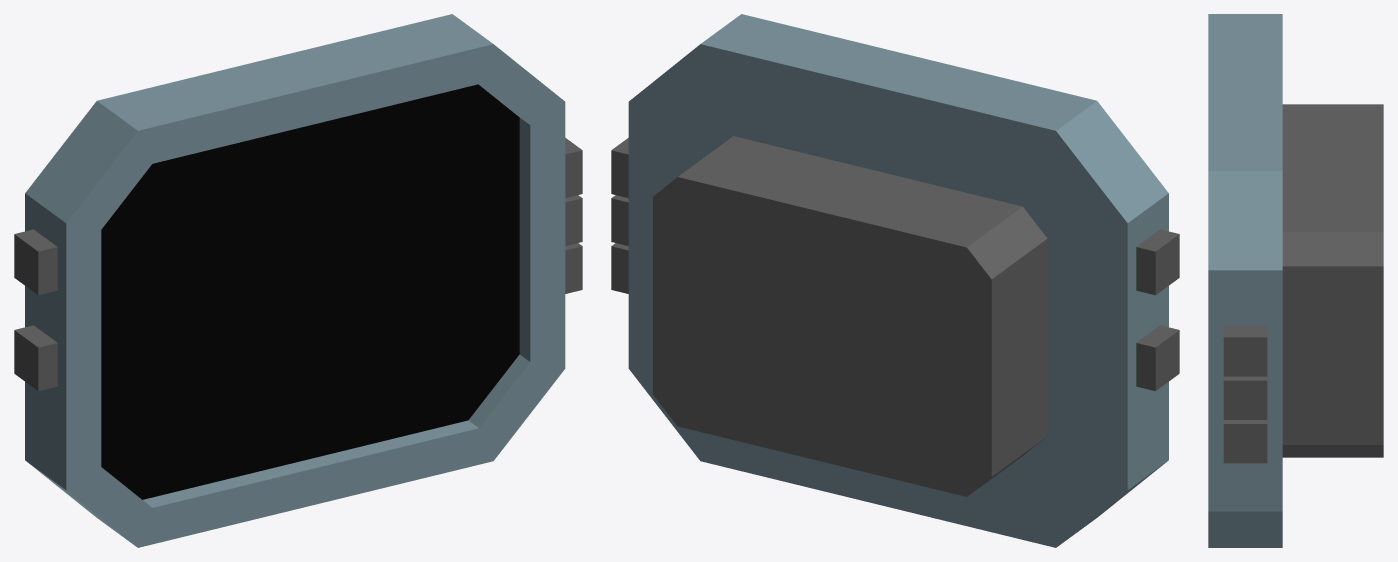
File: upgrade_screen.fbx
3 renders of one model, left to right at view 1: azimuth 30°, elevation 25°; view 2: azimuth 150°, elevation 25°; view 3: azimuth 270°, elevation 25°, orthographic. The views are drawn at different scales.
Visible parts, largest first — view 1: Cube, Cube.006, Cube.004, Cube.001, Cube.002, Cube.003; view 2: Cube, Cube.006, Cube.004, Cube.001, Cube.002, Cube.003; view 3: Cube, Cube.001, Cube.002, Cube.003.
Part boxes in pixels (x1=…): Cube: x1=25, y1=14, x2=565, y2=547; Cube.006: x1=14, y1=325, x2=57, y2=391; Cube.004: x1=14, y1=229, x2=57, y2=295; Cube.001: x1=565, y1=138, x2=582, y2=197; Cube.002: x1=565, y1=195, x2=582, y2=245; Cube.003: x1=565, y1=243, x2=582, y2=293; Cube: x1=628, y1=14, x2=1168, y2=547; Cube.006: x1=1136, y1=325, x2=1179, y2=391; Cube.004: x1=1136, y1=229, x2=1179, y2=295; Cube.001: x1=611, y1=138, x2=628, y2=197; Cube.002: x1=611, y1=195, x2=628, y2=245; Cube.003: x1=611, y1=243, x2=628, y2=293; Cube: x1=1208, y1=14, x2=1383, y2=547; Cube.001: x1=1223, y1=325, x2=1267, y2=376; Cube.002: x1=1223, y1=376, x2=1267, y2=419; Cube.003: x1=1223, y1=420, x2=1267, y2=463.
Size of the model in its own units: 356 by 261 by 110.
